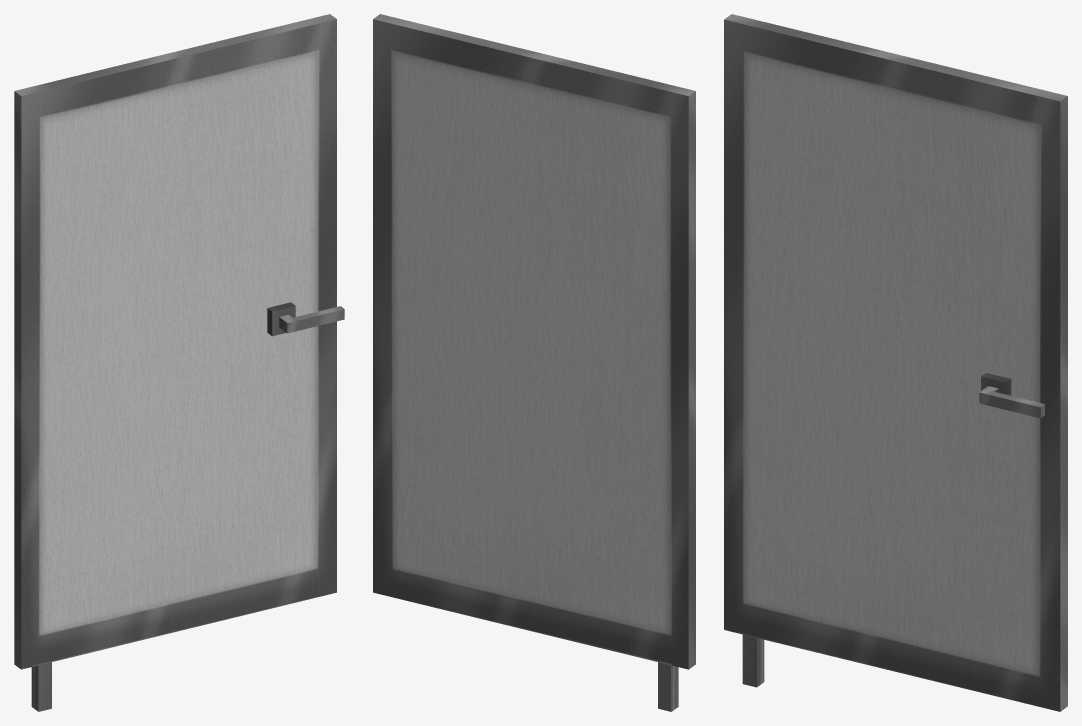
Rendered from ToiletDoor.FBX.
3 views of the same model, side by side, from view 1: azimuth 30°, elevation 25°; view 2: azimuth 150°, elevation 25°; view 3: azimuth 330°, elevation 25° (orthographic). The views are drawn at different scales.
Visible parts, largest first — view 1: Box071; view 2: Box071; view 3: Box071.
Boxes of the visible parts, box(x1,y1,x2,y2) form: Box071: box(14, 14, 344, 711); Box071: box(373, 14, 695, 711); Box071: box(724, 14, 1067, 711).
Size of the model in its own units: 23.05 by 43.25 by 2.56.
1 material, 1 textured.
